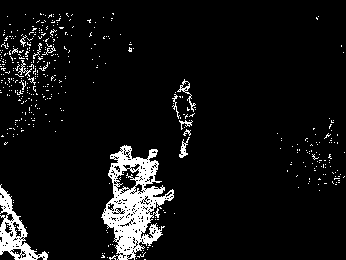person: (175, 77, 198, 162)
